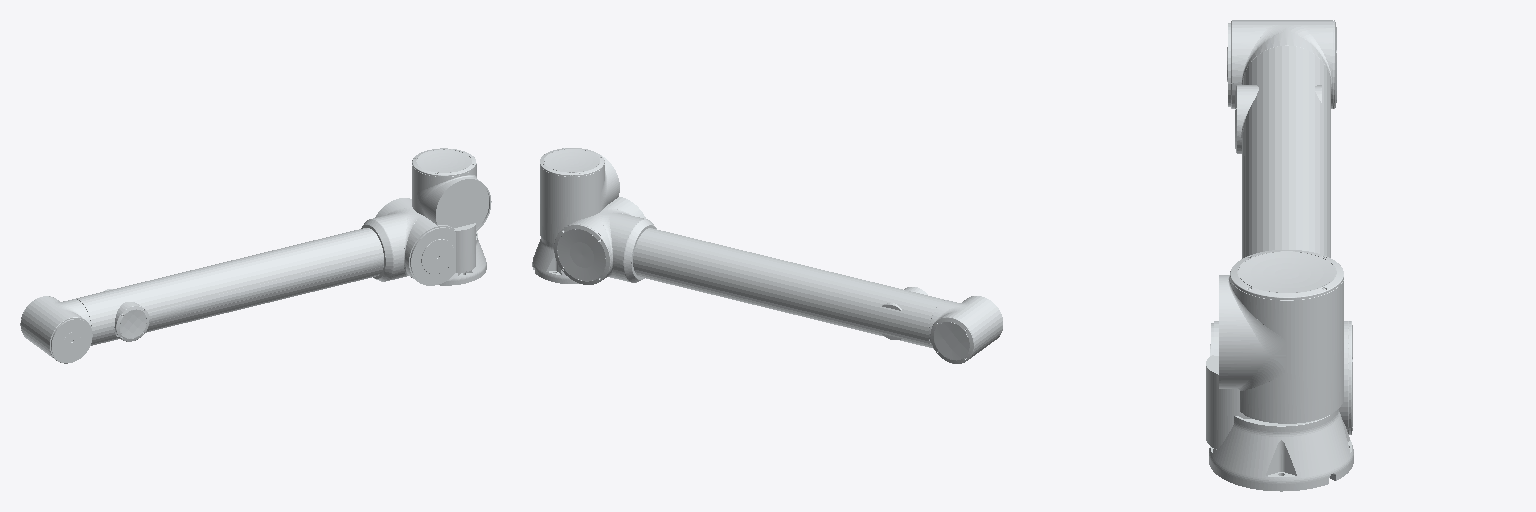
URDF robot description (fairino5_v6_robot):
<?xml version='1.0' encoding='utf-8'?>
<robot name="fairino5_v6_robot">
  <link name="base_link">
    <inertial>
      <origin xyz="-0.00031896 -0.00029673 0.042463" rpy="0 0 0" />
      <mass value="1.6185" />
      <inertia ixx="0.0030836" ixy="1.5354E-05" ixz="-1.9315E-05" iyy="0.0030825" iyz="-1.7918E-05" izz="0.0045209" />
    </inertial>
    <visual>
      <origin xyz="0 0 0" rpy="0 0 0" />
      <geometry>
        <mesh filename="meshes/fr5wml/recentered/base_link.STL" />
      </geometry>
      <material name="">
        <color rgba="0.89804 0.91765 0.92941 1" />
      </material>
    </visual>
    <collision>
      <origin xyz="0 0 0" rpy="0 0 0" />
      <geometry>
        <mesh filename="meshes/fr5wml/recentered/base_link.STL" />
      </geometry>
    </collision>
  </link>
  <link name="shoulder_link">
    <inertial>
      <origin xyz="5.0029E-07 -0.0040922 0.14629" rpy="0 0 0" />
      <mass value="4.3771" />
      <inertia ixx="0.010731" ixy="-8.0587E-09" ixz="-3.6773E-08" iyy="0.010408" iyz="0.00012853" izz="0.0081793" />
    </inertial>
    <visual>
      <origin xyz="0 0 0" rpy="0 0 0" />
      <geometry>
        <mesh filename="meshes/fr5wml/recentered/shoulder_link.STL" />
      </geometry>
      <material name="">
        <color rgba="0.89804 0.91765 0.92941 1" />
      </material>
    </visual>
    <collision>
      <origin xyz="0 0 0" rpy="0 0 0" />
      <geometry>
        <mesh filename="meshes/fr5wml/recentered/shoulder_link.STL" />
      </geometry>
    </collision>
  </link>
  <joint name="j1" type="revolute">
    <origin xyz="0 0 0" rpy="0 0 0" />
    <parent link="base_link" />
    <child link="shoulder_link" />
    <axis xyz="0 0 1" />
    <limit lower="-3.0543" upper="3.0543" effort="150" velocity="3.15" />
    <calibration rising="0" falling="0" />
    <dynamics damping="0" friction="0" />
    <safety_controller soft_lower_limit="-3.0543" soft_upper_limit="3.0543" k_position="15" k_velocity="10" />
  </joint>
  <link name="upperarm_link">
    <inertial>
      <origin xyz="-0.2125 -5.7643E-09 0.1346" rpy="0 0 0" />
      <mass value="14.458" />
      <inertia ixx="0.028392" ixy="-1.337E-07" ixz="-3.9895E-09" iyy="0.4559" iyz="4.214E-08" izz="0.44974" />
    </inertial>
    <visual>
      <origin xyz="0 0 0" rpy="0 0 0" />
      <geometry>
        <mesh filename="meshes/fr5wml/recentered/upperarm_link.STL" />
      </geometry>
      <material name="">
        <color rgba="0.89804 0.91765 0.92941 1" />
      </material>
    </visual>
    <collision>
      <origin xyz="0 0 0" rpy="0 0 0" />
      <geometry>
        <mesh filename="meshes/fr5wml/recentered/upperarm_link.STL" />
      </geometry>
    </collision>
  </link>
  <joint name="j2" type="revolute">
    <origin xyz="0 0 0.18" rpy="1.5708 0 0" />
    <parent link="shoulder_link" />
    <child link="upperarm_link" />
    <axis xyz="0 0 1" />
    <limit lower="-4.6251" upper="1.4835" effort="150" velocity="3.15" />
    <calibration rising="0" falling="0" />
    <dynamics damping="0" friction="0" />
    <safety_controller soft_lower_limit="-4.6251" soft_upper_limit="1.4835" k_position="15" k_velocity="10" />
  </joint>
  <link name="forearm_link">
    <inertial>
      <origin xyz="-0.18793 -8.4503E-07 0.0066357" rpy="0 0 0" />
      <mass value="7.6737" />
      <inertia ixx="0.0085096" ixy="2.1613E-06" ixz="-0.0068678" iyy="0.16971" iyz="3.7086E-08" izz="0.16854" />
    </inertial>
    <visual>
      <origin xyz="0 0 0" rpy="0 0 0" />
      <geometry>
        <mesh filename="meshes/fr5wml/recentered/forearm_link.STL" />
      </geometry>
      <material name="">
        <color rgba="0.89804 0.91765 0.92941 1" />
      </material>
    </visual>
    <collision>
      <origin xyz="0 0 0" rpy="0 0 0" />
      <geometry>
        <mesh filename="meshes/fr5wml/recentered/forearm_link.STL" />
      </geometry>
    </collision>
  </link>
  <joint name="j3" type="revolute">
    <origin xyz="-0.97 0 0" rpy="0 0 0" />
    <parent link="upperarm_link" />
    <child link="forearm_link" />
    <axis xyz="0 0 1" />
    <limit lower="-2.8274" upper="2.8274" effort="150" velocity="3.15" />
    <calibration rising="0" falling="0" />
    <dynamics damping="0" friction="0" />
    <safety_controller soft_lower_limit="-2.8274" soft_upper_limit="2.8274" k_position="15" k_velocity="10" />
  </joint>
  <link name="wrist1_link">
    <inertial>
      <origin xyz="4.98E-07 -0.003754 0.097155" rpy="0 0 0" />
      <mass value="1.6266" />
      <inertia ixx="0.00216" ixy="4.888E-09" ixz="3.1528E-08" iyy="0.0015455" iyz="3.7678E-05" izz="0.0019902" />
    </inertial>
    <visual>
      <origin xyz="0 0 0" rpy="0 0 0" />
      <geometry>
        <mesh filename="meshes/fr5wml/recentered/wrist1_link.STL" />
      </geometry>
      <material name="">
        <color rgba="0.89804 0.91765 0.92941 1" />
      </material>
    </visual>
    <collision>
      <origin xyz="0 0 0" rpy="0 0 0" />
      <geometry>
        <mesh filename="meshes/fr5wml/recentered/wrist1_link.STL" />
      </geometry>
    </collision>
  </link>
  <joint name="j4" type="revolute">
    <origin xyz="-0.816 0 0" rpy="0 0 0" />
    <parent link="forearm_link" />
    <child link="wrist1_link" />
    <axis xyz="0 0 1" />
    <limit lower="-4.6251" upper="1.4835" effort="28" velocity="3.2" />
    <calibration rising="0" falling="0" />
    <dynamics damping="0" friction="0" />
    <safety_controller soft_lower_limit="-4.6251" soft_upper_limit="1.4835" k_position="15" k_velocity="10" />
  </joint>
  <link name="wrist2_link">
    <inertial>
      <origin xyz="-4.5588E-07 0.0038617 0.098257" rpy="0 0 0" />
      <mass value="1.5812" />
      <inertia ixx="0.0020612" ixy="8.7064E-09" ixz="-3.4742E-08" iyy="0.0014477" iyz="-2.8534E-05" izz="0.0019573" />
    </inertial>
    <visual>
      <origin xyz="0 0 0" rpy="0 0 0" />
      <geometry>
        <mesh filename="meshes/fr5wml/recentered/wrist2_link.STL" />
      </geometry>
      <material name="">
        <color rgba="0.89804 0.91765 0.92941 1" />
      </material>
    </visual>
    <collision>
      <origin xyz="0 0 0" rpy="0 0 0" />
      <geometry>
        <mesh filename="meshes/fr5wml/recentered/wrist2_link.STL" />
      </geometry>
    </collision>
  </link>
  <joint name="j5" type="revolute">
    <origin xyz="0 0 0.114" rpy="1.5708 0 0" />
    <parent link="wrist1_link" />
    <child link="wrist2_link" />
    <axis xyz="0 0 1" />
    <limit lower="-3.0543" upper="3.0543" effort="28" velocity="3.2" />
    <calibration rising="0" falling="0" />
    <dynamics damping="0" friction="0" />
    <safety_controller soft_lower_limit="-3.0543" soft_upper_limit="3.0543" k_position="15" k_velocity="10" />
  </joint>
  <link name="wrist3_link">
    <inertial>
      <origin xyz="7.7496E-05 1.7751E-05 0.076122" rpy="0 0 0" />
      <mass value="0.52542" />
      <inertia ixx="0.00027721" ixy="-1.8677E-09" ixz="-1.188E-07" iyy="0.00027839" iyz="2.2607E-07" izz="0.00041605" />
    </inertial>
    <visual>
      <origin xyz="0 0 0" rpy="0 0 0" />
      <geometry>
        <mesh filename="meshes/fr5wml/recentered/wrist3_link.STL" />
      </geometry>
      <material name="">
        <color rgba="0.89804 0.91765 0.92941 1" />
      </material>
    </visual>
    <collision>
      <origin xyz="0 0 0" rpy="0 0 0" />
      <geometry>
        <mesh filename="meshes/fr5wml/recentered/wrist3_link.STL" />
      </geometry>
    </collision>
  </link>
  <joint name="j6" type="revolute">
    <origin xyz="0 0 0.106" rpy="-1.5708 0 0" />
    <parent link="wrist2_link" />
    <child link="wrist3_link" />
    <axis xyz="0 0 1" />
    <limit lower="-3.0543" upper="3.0543" effort="28" velocity="3.2" />
    <calibration rising="0" falling="0" />
    <dynamics damping="0" friction="0" />
    <safety_controller soft_lower_limit="-3.0543" soft_upper_limit="3.0543" k_position="15" k_velocity="10" />
  </joint>
</robot>

--- Facts derived from the render (not from the file) ---
The picture shows the robot from 3 angles, left to right: view 1: azimuth 30°, elevation 25°; view 2: azimuth 150°, elevation 25°; view 3: azimuth 270°, elevation 25°; orthographic projection.
Model fairino5_v6_robot with 7 links and 6 joints (6 revolute), rooted at base_link, posed all joints at 0.
Visible links, largest first — view 1: upperarm_link, shoulder_link, forearm_link, wrist1_link, base_link; view 2: upperarm_link, shoulder_link, base_link; view 3: upperarm_link, shoulder_link, base_link, wrist1_link, forearm_link.
Boxes of the visible links, box(x1,y1,x2,y2) form: upperarm_link: box(20, 198, 455, 363); shoulder_link: box(412, 148, 491, 231); forearm_link: box(103, 255, 383, 341); wrist1_link: box(454, 223, 475, 272); base_link: box(411, 232, 486, 285); upperarm_link: box(554, 197, 1002, 363); shoulder_link: box(540, 148, 619, 243); base_link: box(532, 237, 578, 283); upperarm_link: box(1210, 20, 1352, 434); shoulder_link: box(1219, 250, 1343, 423); base_link: box(1209, 409, 1353, 491); wrist1_link: box(1206, 355, 1251, 449); forearm_link: box(1235, 85, 1321, 258).
Size in the robot's own frame: 1198 by 194 by 286 metres.
Meshes: 7 distinct files referenced, 7 mesh visuals loaded (7 binary STL).
